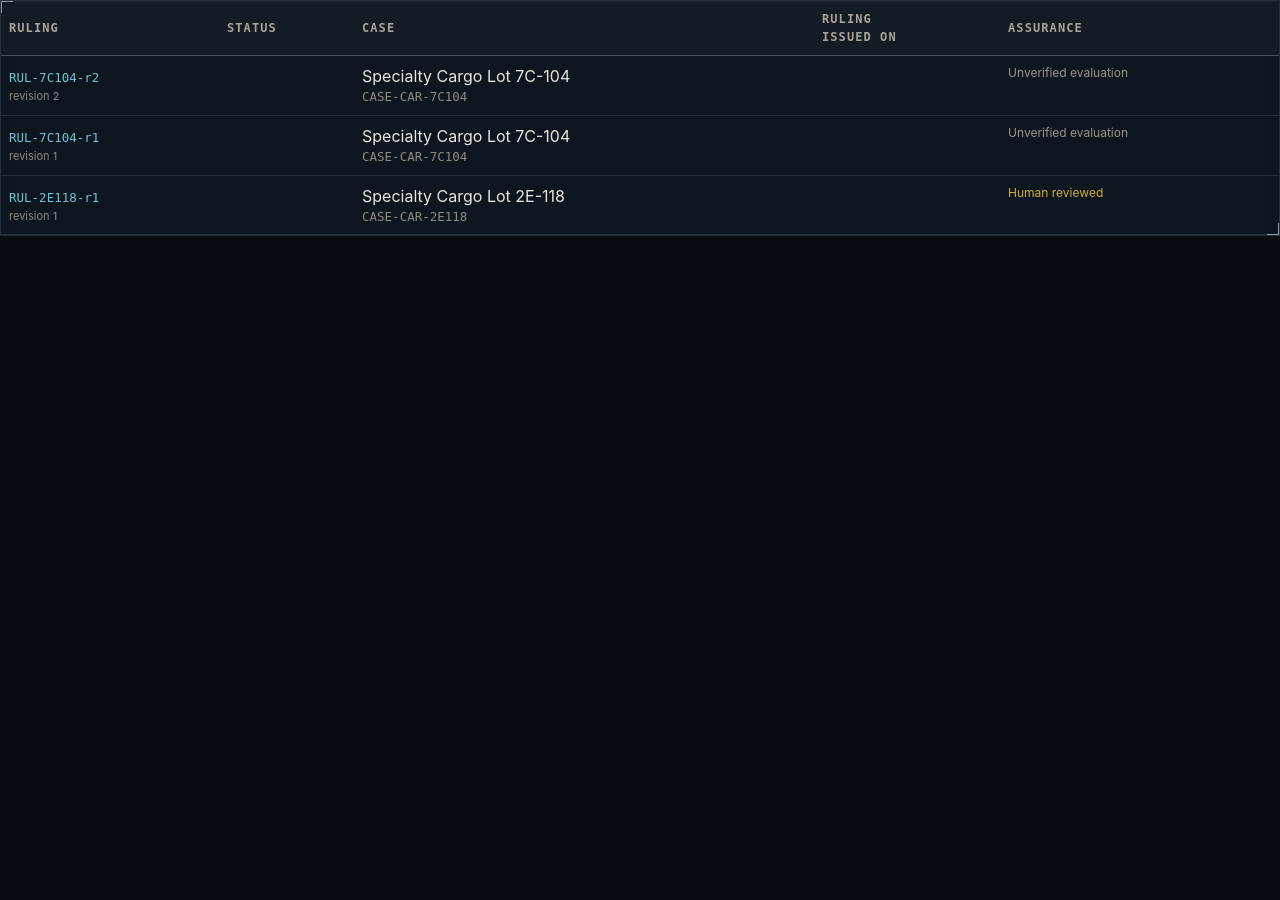
Test case: a ruling is never edited, so the chain is walked › says a reason is not recorded rather than leaving the question unanswered
Click the button "RUL-2E118-r1 revision 1". click: (110,204)
box: x1=9 y1=184 x2=211 y2=224
(page scrolled)
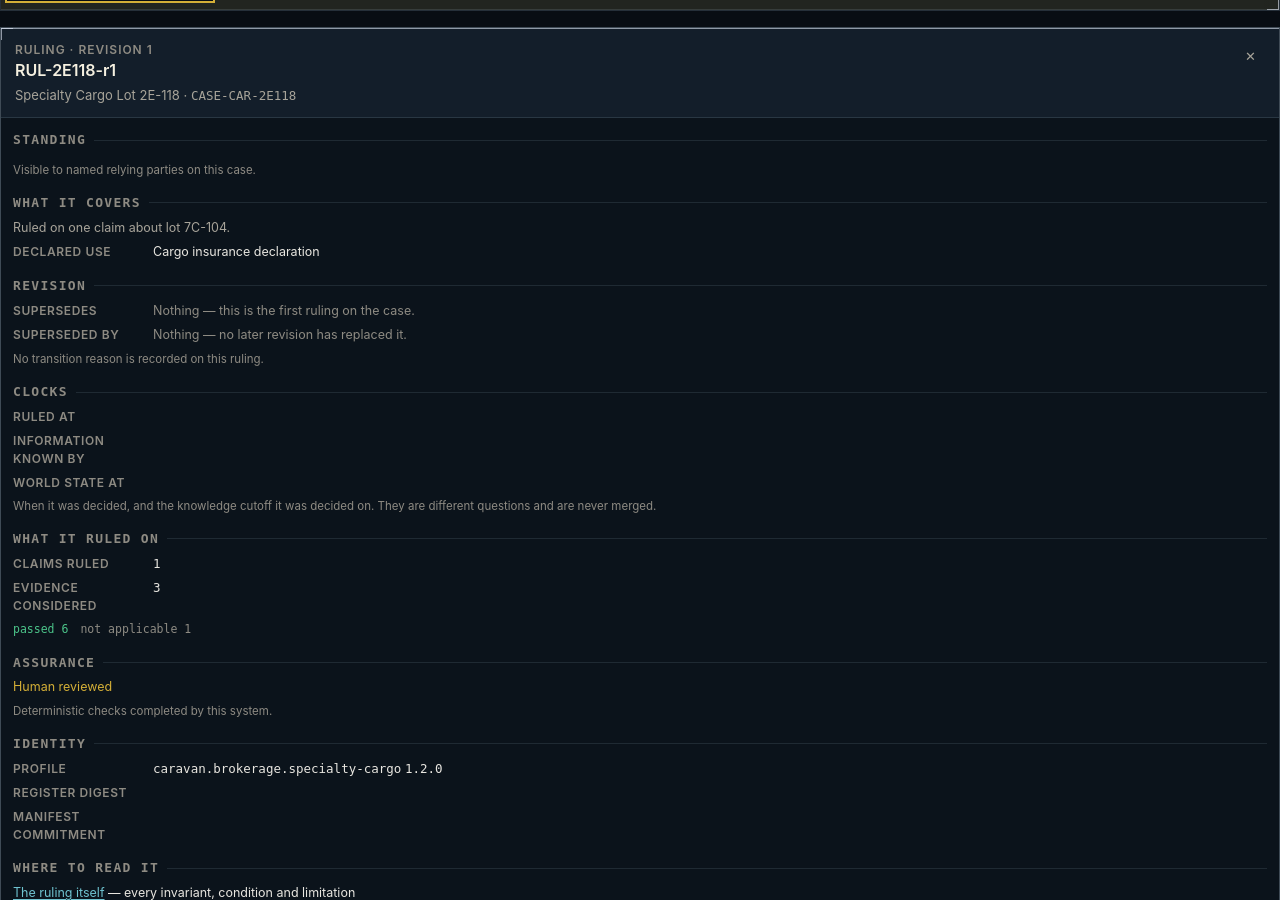
Now the text with test id "inspector-transition" shows "No transition reason is recorded", box x1=13 y1=352 x2=264 y2=366
Now the element with test id "ruling-inspector" shows "this is the first ruling on the case", box x1=153 y1=303 x2=415 y2=318
Now the element with test id "ruling-inspector" shows "no later revision has replaced it", box x1=153 y1=327 x2=407 y2=342
